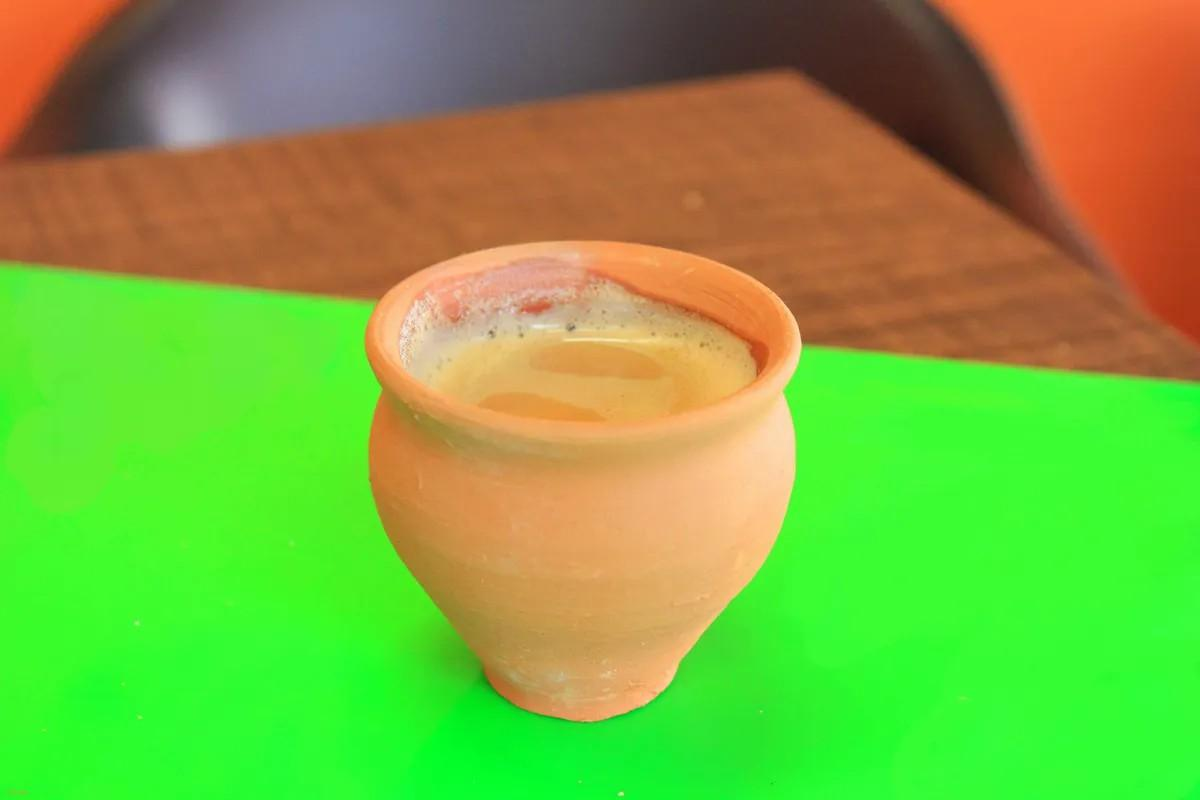Chai: (406, 285, 758, 429)
